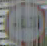Heavy Vehicles: (5, 3, 46, 41)
